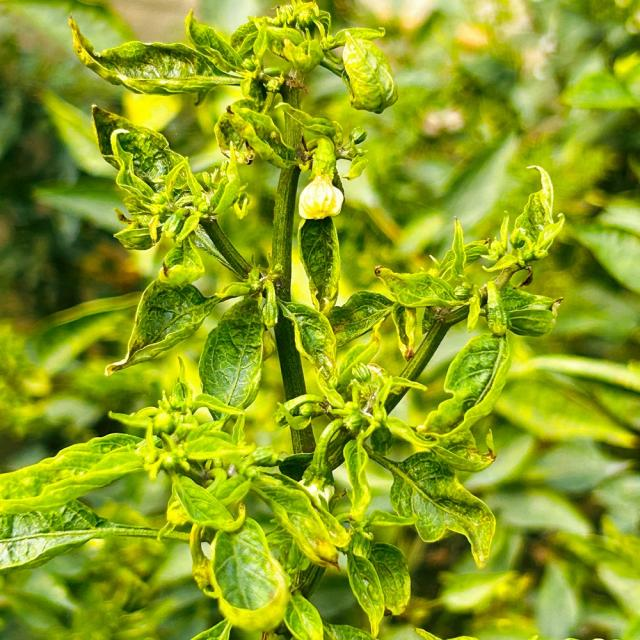Chilli_Leaf_Curl: (1, 1, 566, 638)
